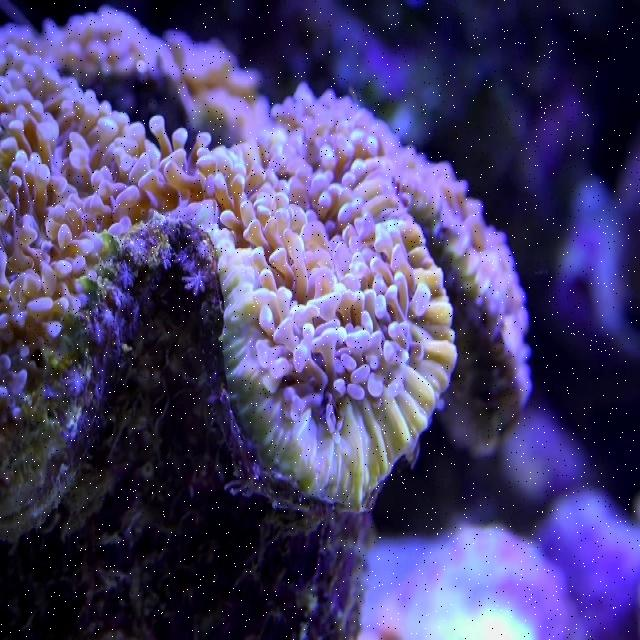reefs: (0, 11, 532, 540)
